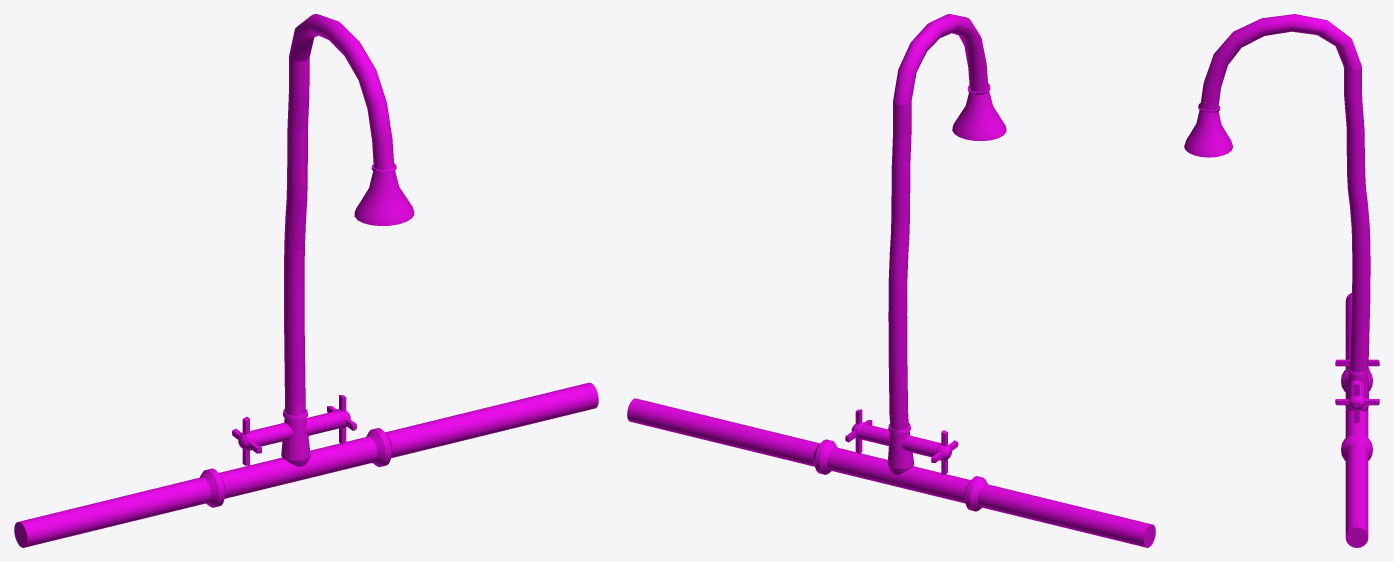
The model's file is SetoShower.fbx.
3 views of the same model, side by side, from view 1: azimuth 30°, elevation 25°; view 2: azimuth 150°, elevation 25°; view 3: azimuth 270°, elevation 25° (orthographic). The views are drawn at different scales.
Visible parts, largest first — view 1: Shower; view 2: Shower; view 3: Shower.
Part boxes in pixels (bbox=[...]): Shower: bbox=[14, 14, 598, 547]; Shower: bbox=[627, 14, 1155, 547]; Shower: bbox=[1184, 14, 1379, 547].
Size of the model in its own units: 98.72 by 81.17 by 34.61.
